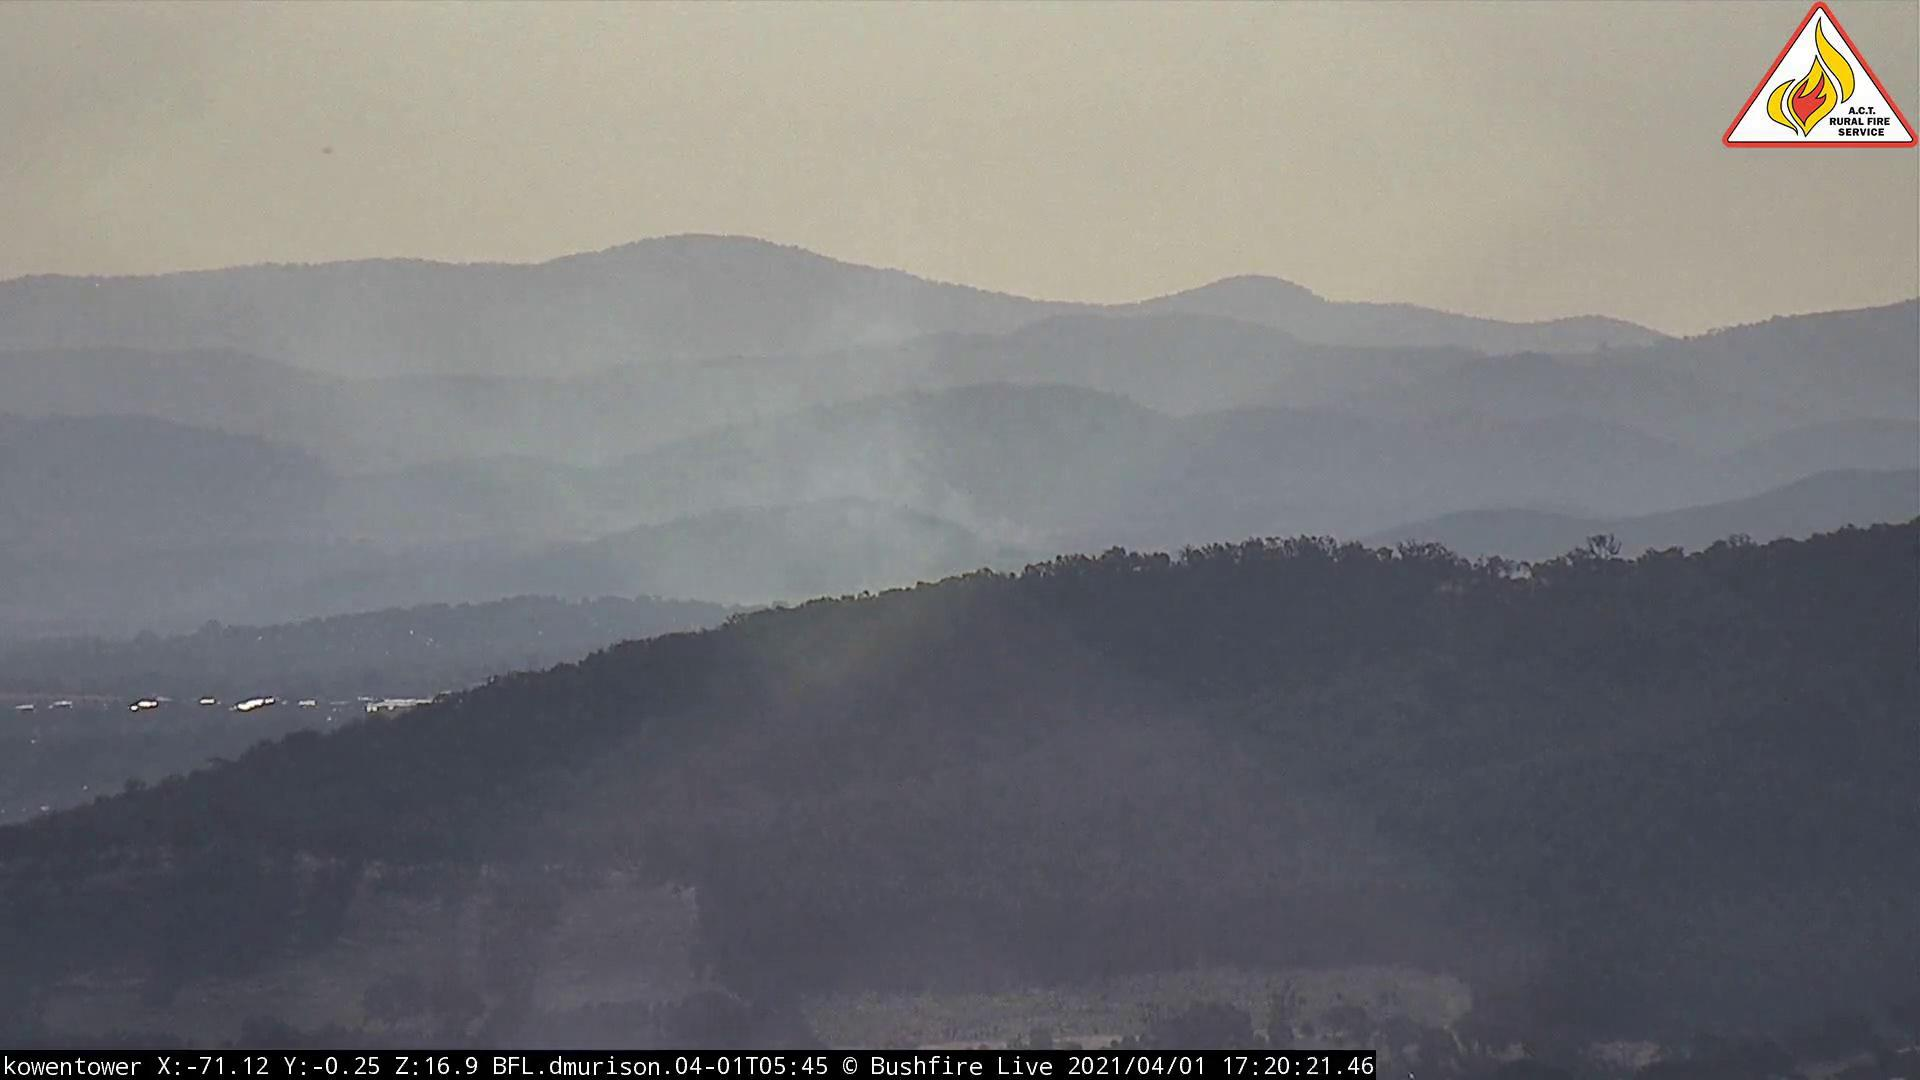Smoke: (287, 290, 1029, 638)
